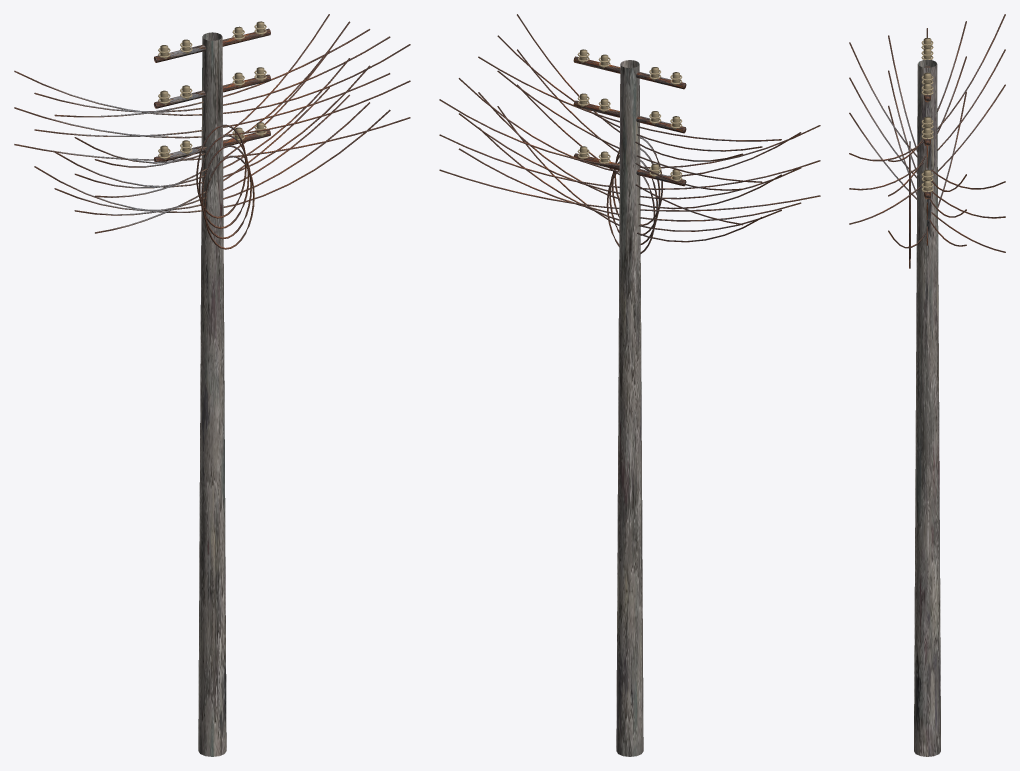
Rendered from prop_wire_pole.glb.
The picture shows the model from 3 angles, left to right: view 1: azimuth 30°, elevation 25°; view 2: azimuth 150°, elevation 25°; view 3: azimuth 270°, elevation 25°; orthographic projection. The views are drawn at different scales.
Parts seen in each view (by area): view 1: prop_wire_pole; view 2: prop_wire_pole; view 3: prop_wire_pole.
Boxes of the visible parts, box(x1,y1,x2,y2) form: prop_wire_pole: box(14, 14, 410, 756); prop_wire_pole: box(439, 14, 820, 756); prop_wire_pole: box(849, 14, 1005, 756).
Size of the model in its own units: 3.69 by 8 by 1.65.
3 materials, 3 textured.
